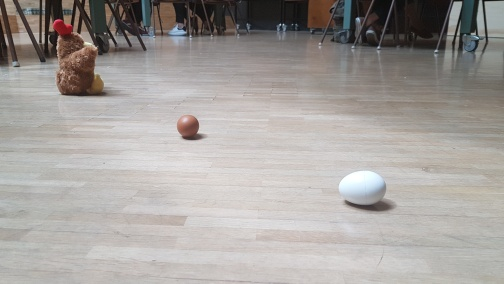chicken: (51, 19, 106, 96)
egg: (337, 168, 387, 206), (175, 114, 200, 139)
